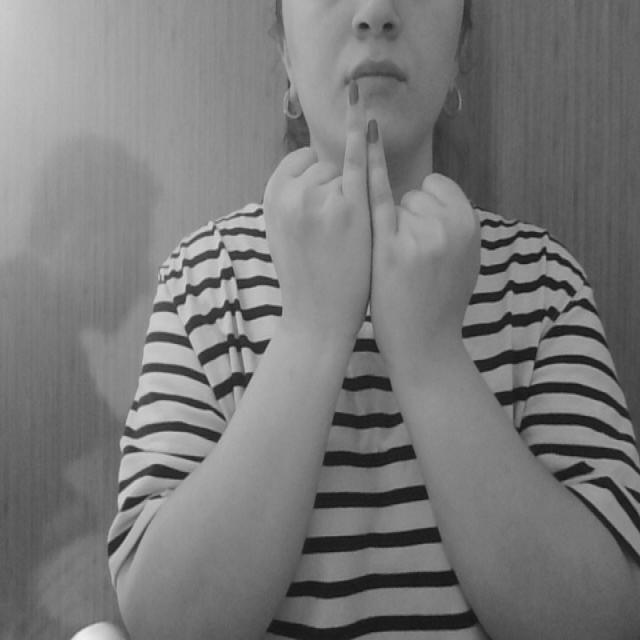Kardes: (259, 75, 486, 354)
